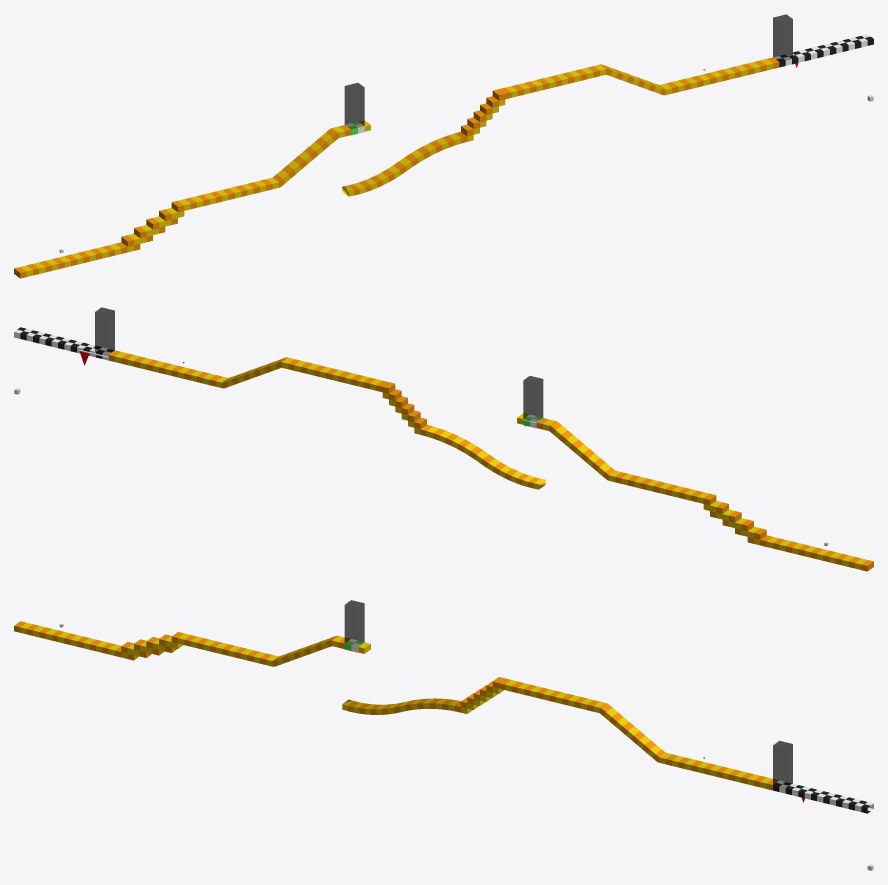
3 renders of one model, top to bottom at view 1: azimuth 30°, elevation 25°; view 2: azimuth 150°, elevation 25°; view 3: azimuth 330°, elevation 25°, orthographic.
Parts seen in each view (by area): view 1: Floor_8, Floor_7, Floor_1, Floor_6, Floor_17, Floor_15, Floor_18, Checkpoint, Finish, Floor_16; view 2: Floor_8, Floor_7, Floor_1, Floor_6, Floor_17, Floor_15, Floor_18, Checkpoint, Finish, Floor_16; view 3: Floor_1, Floor_6, Floor_8, Floor_15, Floor_17, Floor_18, Floor_16, Floor_7, Checkpoint, Finish.
Part boxes in pixels (x1,y1,x2,y2): Floor_8: [342, 131, 467, 196]; Floor_7: [273, 120, 370, 187]; Floor_1: [14, 242, 127, 278]; Floor_6: [171, 177, 278, 217]; Floor_17: [672, 57, 779, 91]; Floor_15: [499, 64, 605, 99]; Floor_18: [773, 34, 873, 67]; Checkpoint: [344, 83, 364, 129]; Finish: [773, 14, 792, 61]; Floor_16: [600, 64, 678, 95]; Floor_8: [420, 424, 545, 489]; Floor_7: [517, 413, 614, 480]; Floor_1: [760, 535, 873, 571]; Floor_6: [609, 470, 716, 510]; Floor_17: [108, 350, 215, 384]; Floor_15: [282, 357, 388, 392]; Floor_18: [14, 327, 114, 360]; Checkpoint: [523, 376, 543, 422]; Finish: [95, 307, 114, 354]; Floor_16: [209, 357, 287, 388]; Floor_1: [14, 621, 121, 657]; Floor_6: [171, 632, 278, 666]; Floor_8: [342, 698, 460, 714]; Floor_15: [498, 678, 605, 712]; Floor_17: [672, 755, 778, 790]; Floor_18: [773, 780, 873, 813]; Floor_16: [599, 703, 677, 765]; Floor_7: [272, 635, 370, 666]; Checkpoint: [344, 600, 364, 646]; Finish: [773, 740, 792, 787].
Size of what is drawn, in the model's own units: 136 by 21.16 by 1.93.
Materials: 3 (1 with a texture image).
